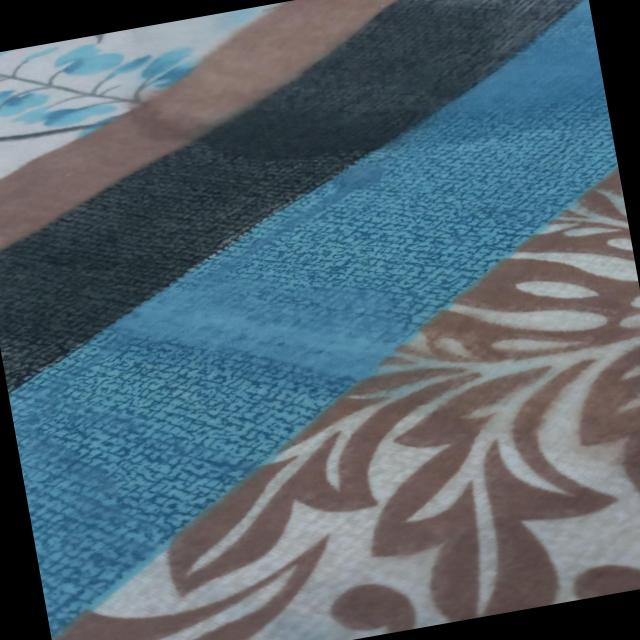baekra: (16, 196, 574, 495), (0, 0, 549, 228)
